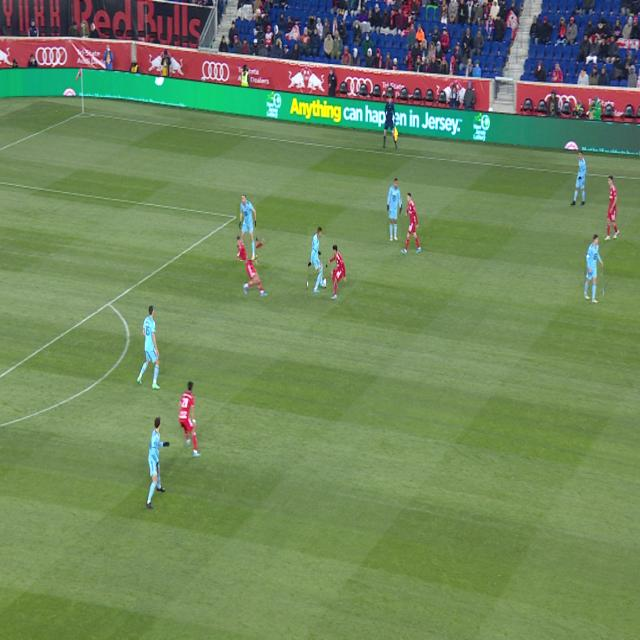football: (306, 279, 312, 289)
player: (147, 418, 169, 509), (137, 306, 160, 389), (179, 382, 201, 457), (243, 237, 268, 297), (585, 235, 603, 303), (401, 193, 421, 254), (238, 196, 256, 260), (309, 228, 326, 293), (605, 176, 619, 241), (329, 246, 346, 299), (570, 151, 586, 205), (388, 179, 401, 241)
